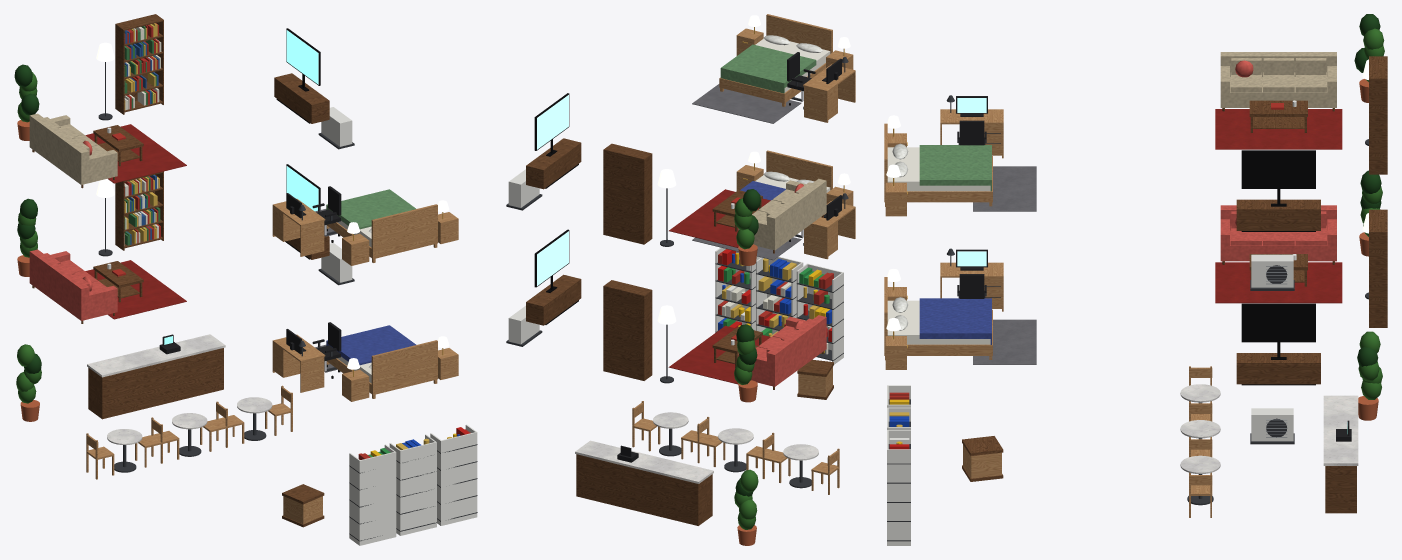
File: i_bubble_tea_flats.gltf
3 renders of one model, left to right at view 1: azimuth 30°, elevation 25°; view 2: azimuth 150°, elevation 25°; view 3: azimuth 270°, elevation 25°, orthographic. The views are drawn at different scales.
Visible parts, largest first — view 1: I_bubble_tea_flats; view 2: I_bubble_tea_flats; view 3: I_bubble_tea_flats.
Part boxes in pixels (x1,y1,x2,y2): I_bubble_tea_flats: (14, 14, 477, 545); I_bubble_tea_flats: (506, 14, 855, 545); I_bubble_tea_flats: (884, 14, 1387, 545).
Size of the model in its own units: 7.06 by 8.6 by 9.51.
Materials: 36 (11 with a texture image).
